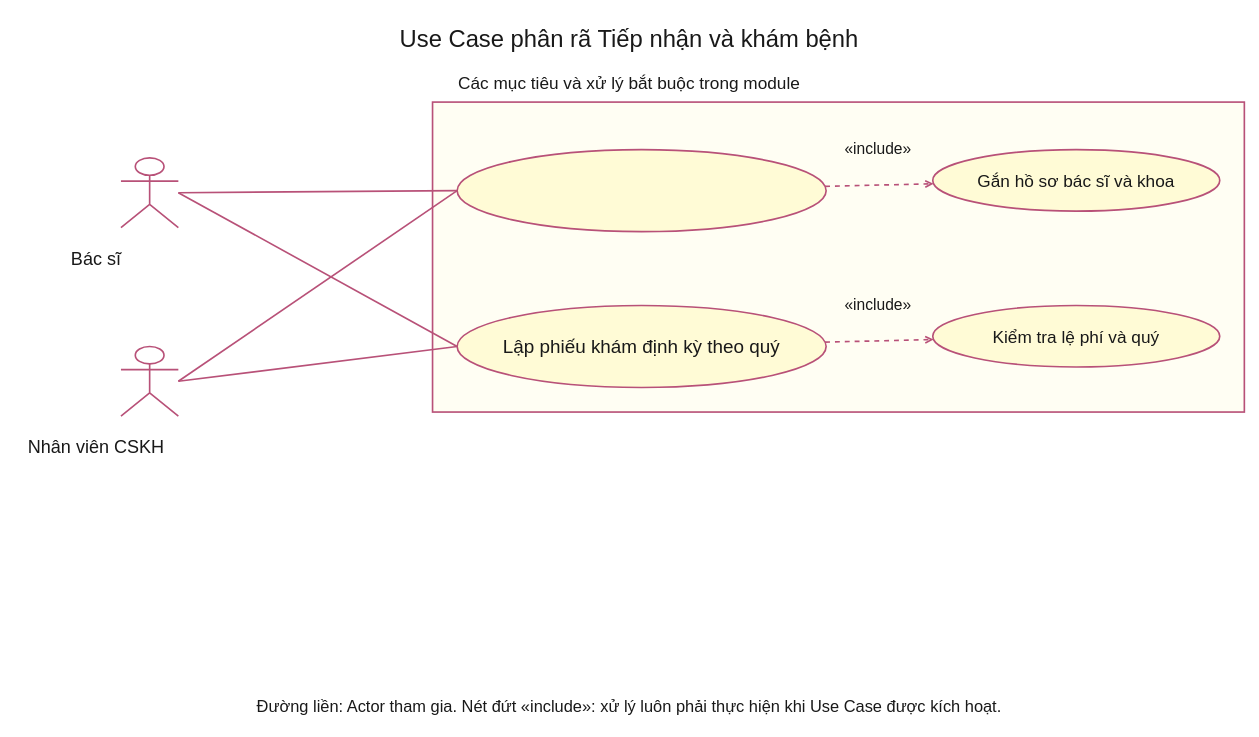
Image size: 1259x737. Some labels were removed from this diagram. Here are the shapes that lost their labels. From the top down, the box of each, then its label:
(456, 148, 827, 232): Lập phiếu khám điều trị
(431, 101, 1245, 412): Phạm vi chức năng
